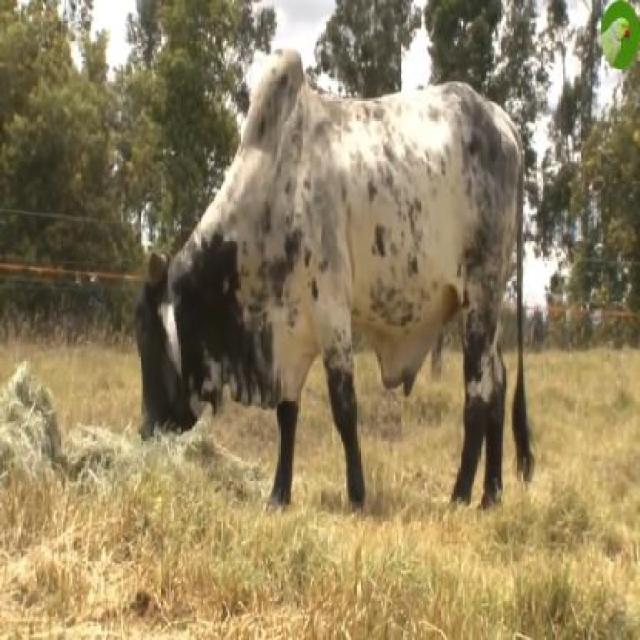Cow: (135, 49, 531, 557)
